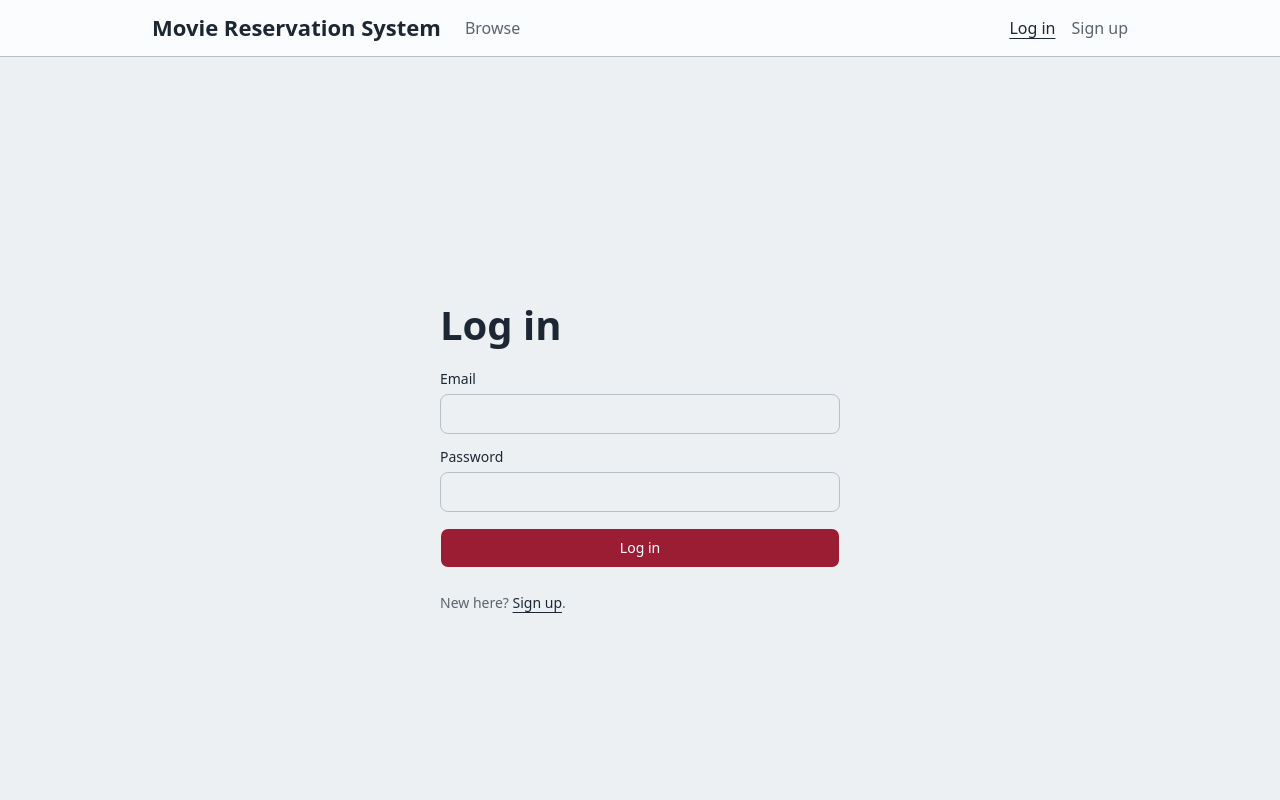
Test: auth › login_wrong_credentials_shows_message_and_stores_nothing
The width and height of the screenshot is (1280, 800).
Step 1. Type "ana@example.com" into the field labelled "Email" → (640, 414), box [440,394,840,434]
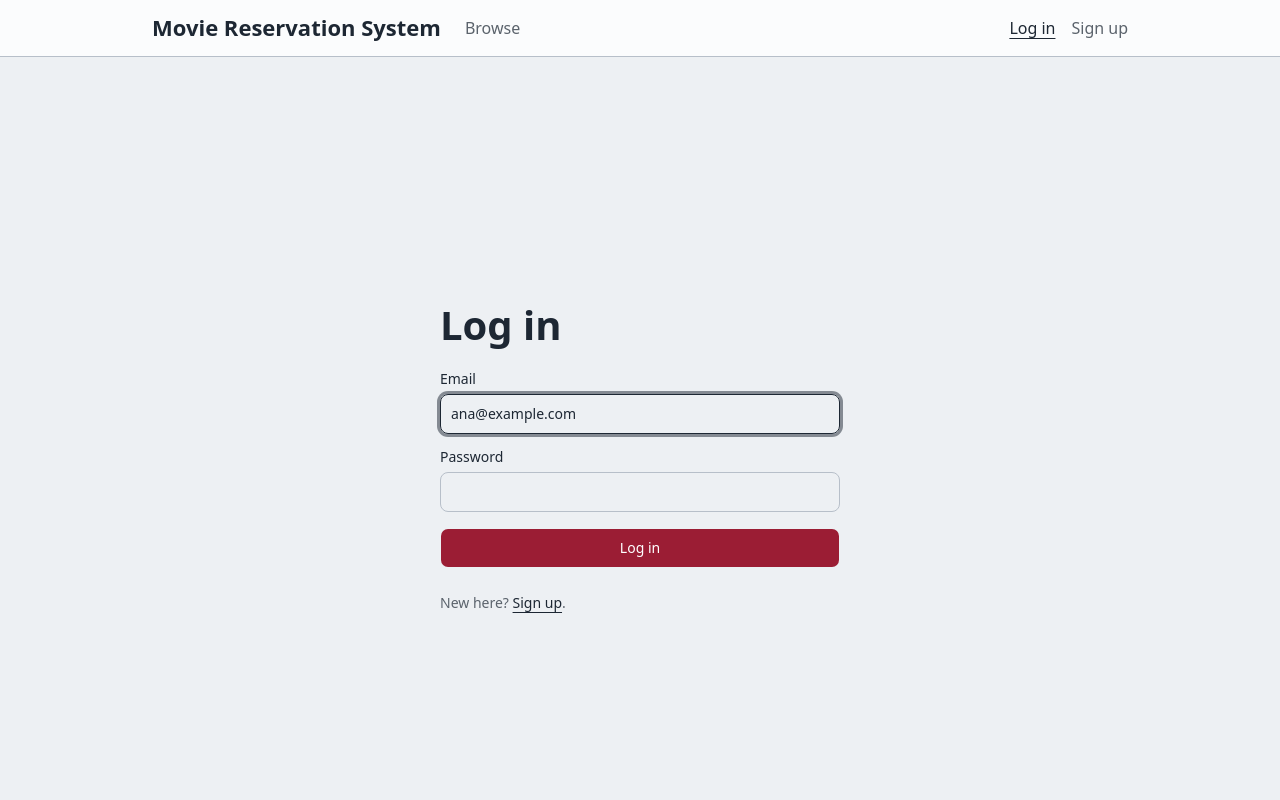
Step 2. Type "not-the-password" into the password field labelled "Password" → (640, 492), box [440,472,840,512]
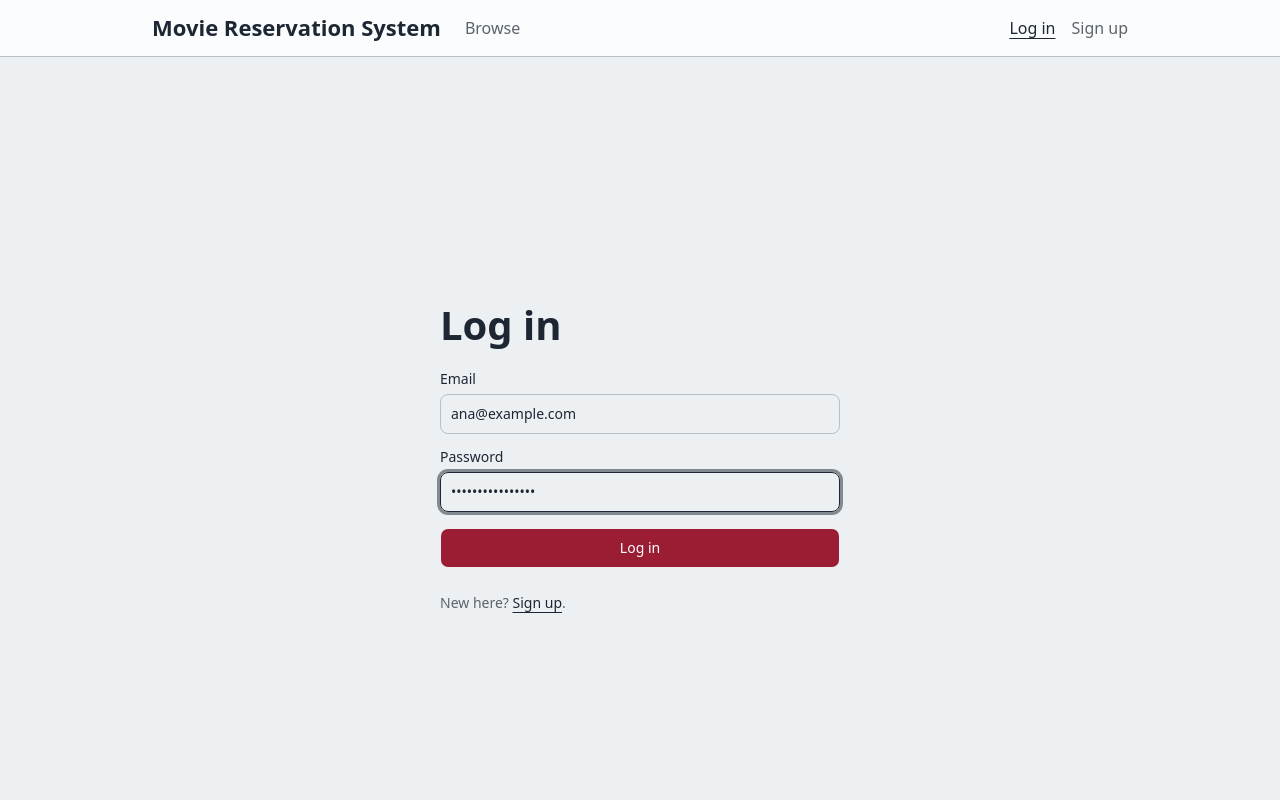
Step 3. Click the button "Log in" → (640, 548), box [440,528,840,568]
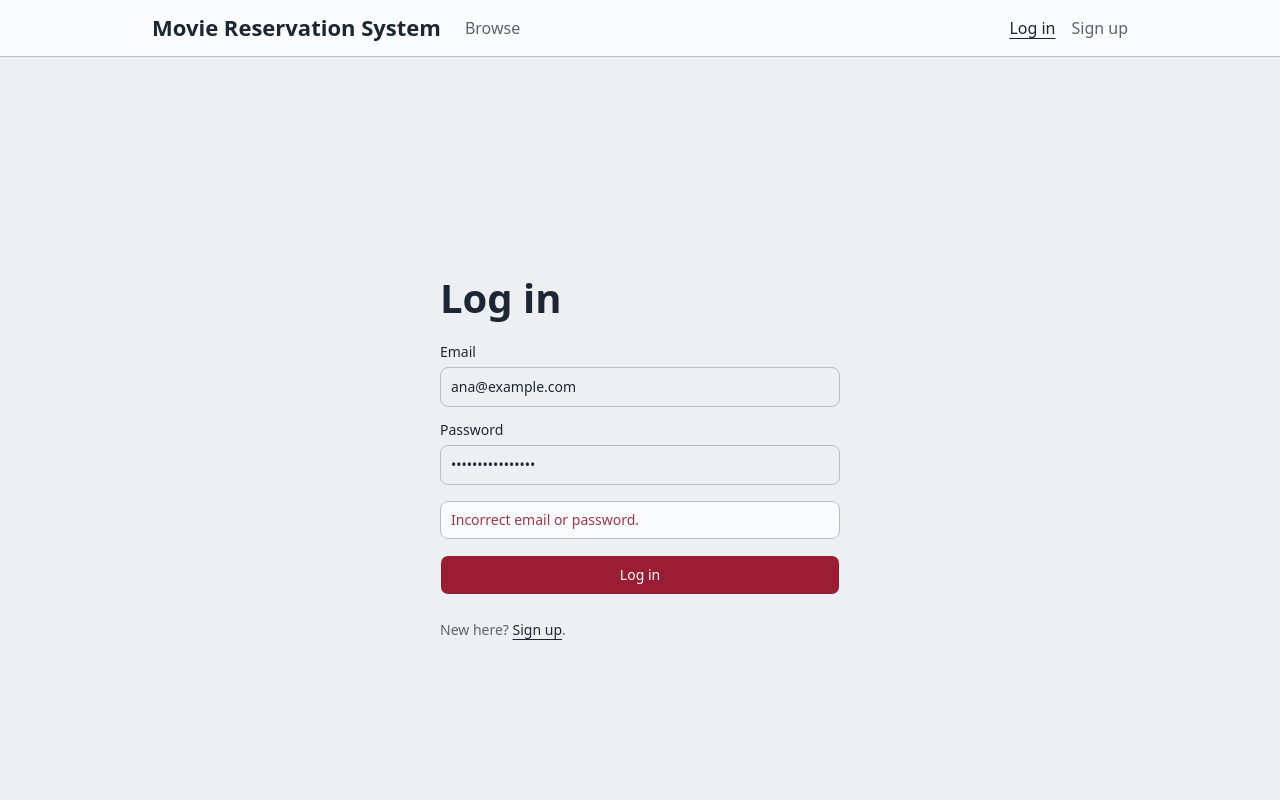
Result: the text "Incorrect email or password." is shown at [451,510,639,528]
